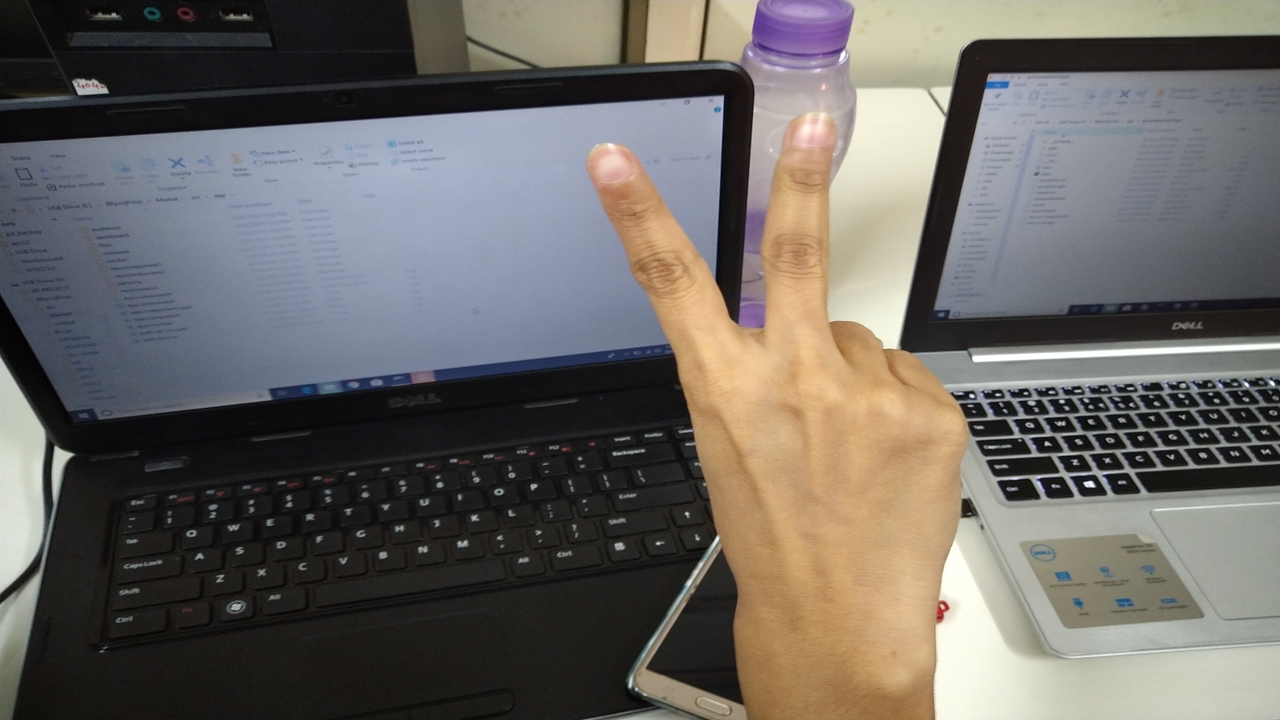fingertip: (580, 134, 648, 194), (776, 102, 838, 166)
